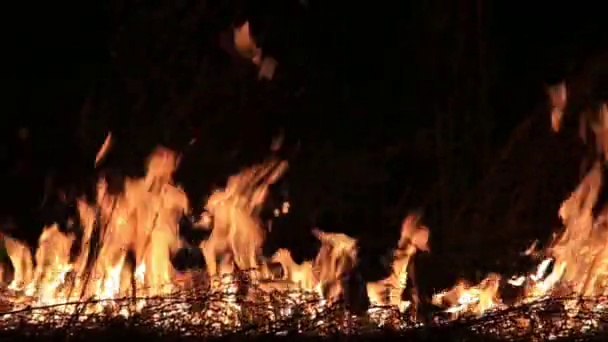fire: (3, 156, 187, 320), (511, 187, 608, 331), (199, 163, 281, 322), (277, 229, 357, 316), (365, 214, 431, 316), (435, 275, 499, 313)
